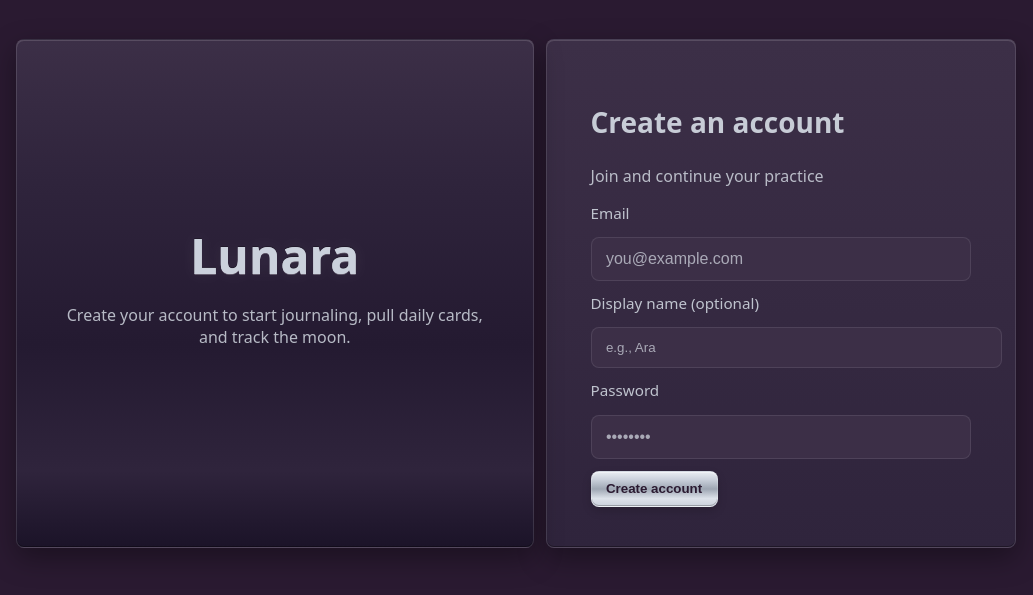
Signup page › shows error message on failure and does not navigate
Type "ara@example.com" into the field labelled "Email" at (781, 259), box [590,237,971,281]
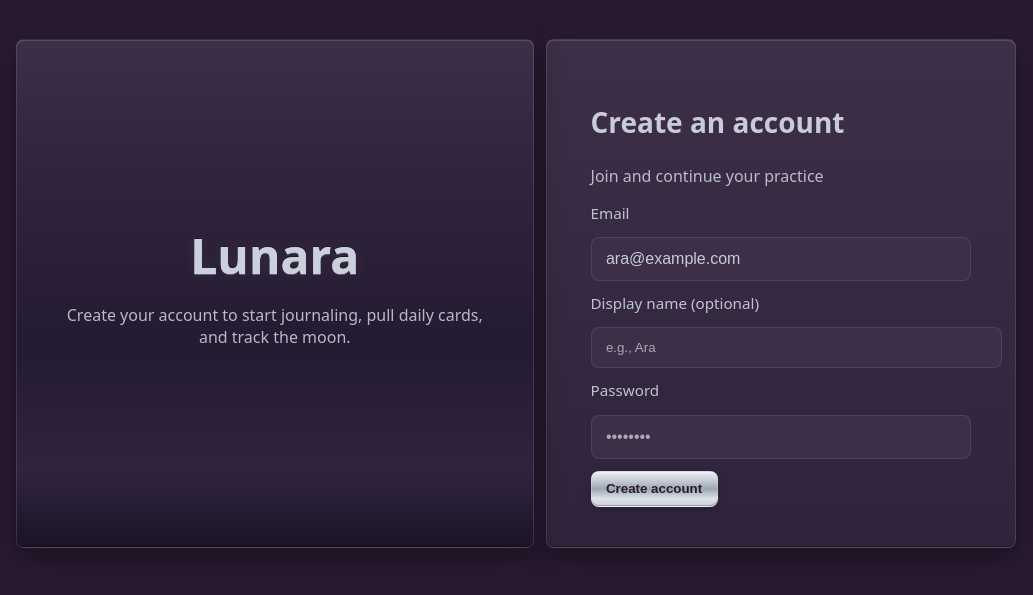
Type "passpass123" into the password field labelled "Password" at (781, 437), box [590,415,971,459]
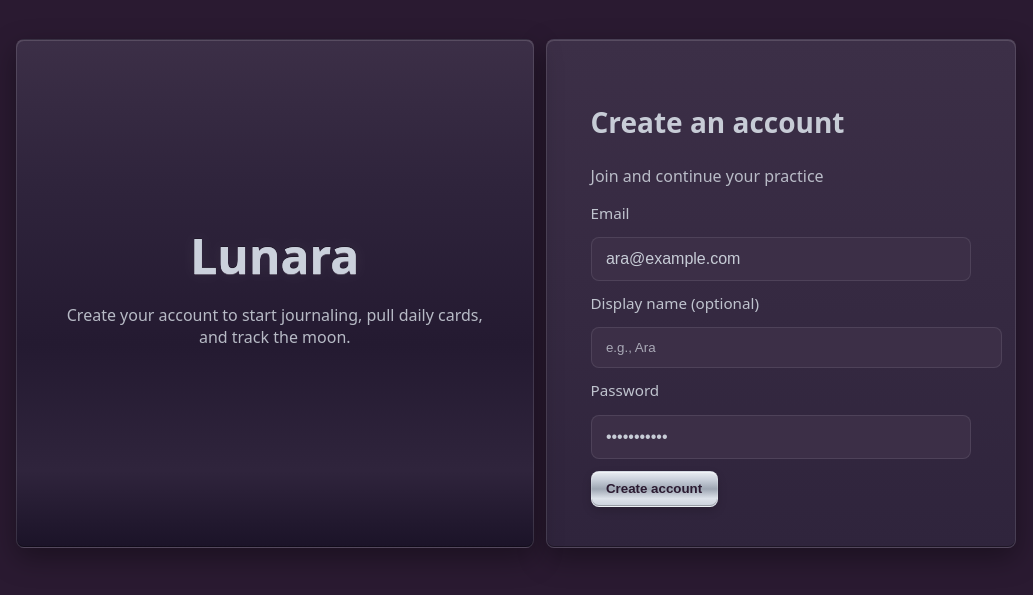
Click the button "Create account" at (654, 489), box [590,471,718,507]
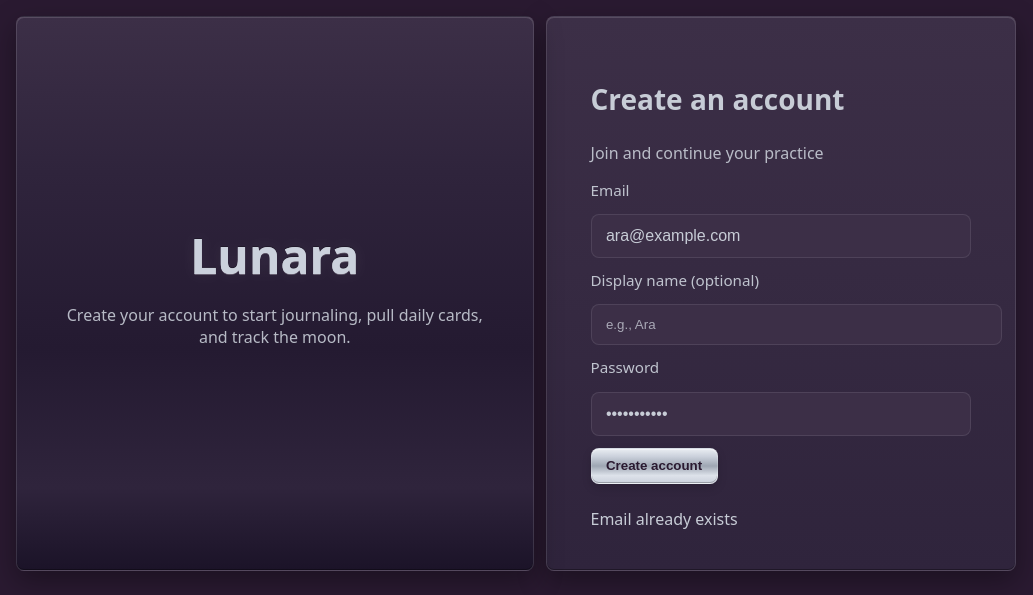
Expected: the text "Email already exists" is shown, [590,508,738,530]
